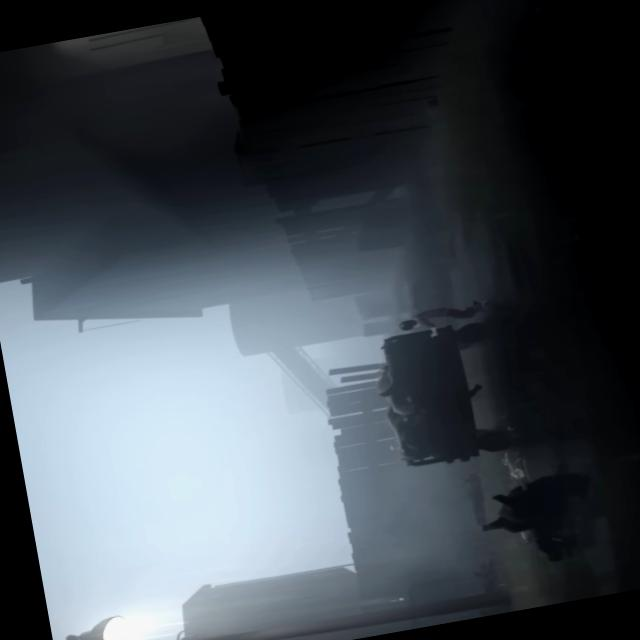boy: (394, 298, 488, 338)
